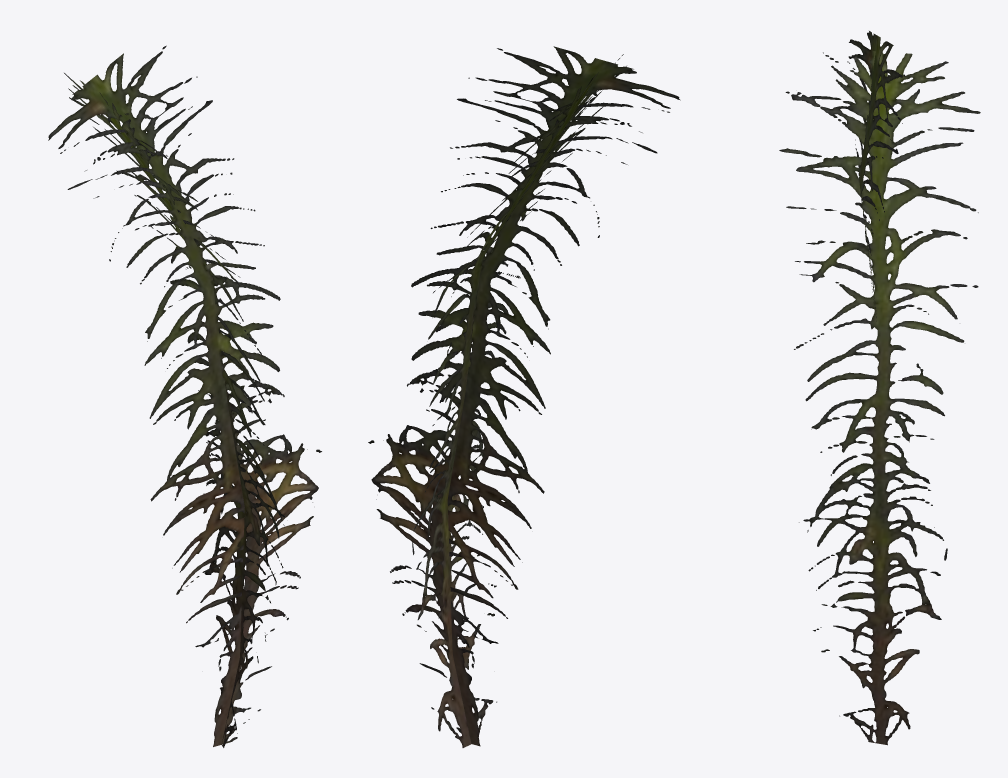
Rendered from moss_01_tall_b_LOD1.glb.
3 renders of one model, left to right at view 1: azimuth 30°, elevation 25°; view 2: azimuth 150°, elevation 25°; view 3: azimuth 270°, elevation 25°, orthographic. The views are drawn at different scales.
Parts seen in each view (by area): view 1: moss_01_tall_b_LOD1__lod0; view 2: moss_01_tall_b_LOD1__lod0; view 3: moss_01_tall_b_LOD1__lod0.
Part boxes in pixels (box(x1,y1,x2,y2)): moss_01_tall_b_LOD1__lod0: box(48, 45, 321, 747); moss_01_tall_b_LOD1__lod0: box(368, 46, 680, 747); moss_01_tall_b_LOD1__lod0: box(779, 31, 980, 745).
Size of what is drawn, in the model's own units: 0.0177 by 0.0364 by 0.0118.
1 material, 1 textured.
